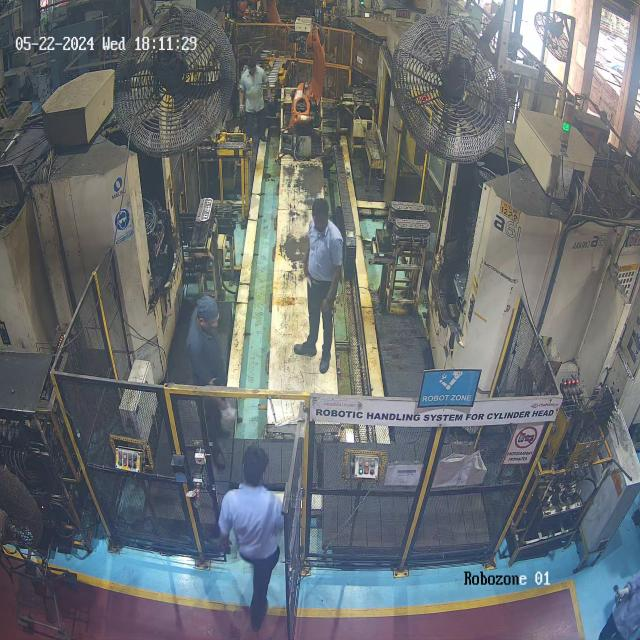person: (226, 442, 301, 636), (182, 299, 236, 479), (294, 195, 348, 373), (232, 50, 290, 174), (593, 563, 640, 640)
